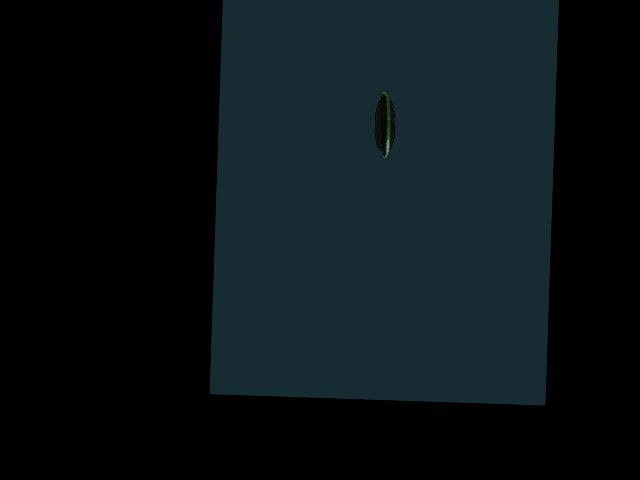cucumber: (378, 91, 391, 158)
